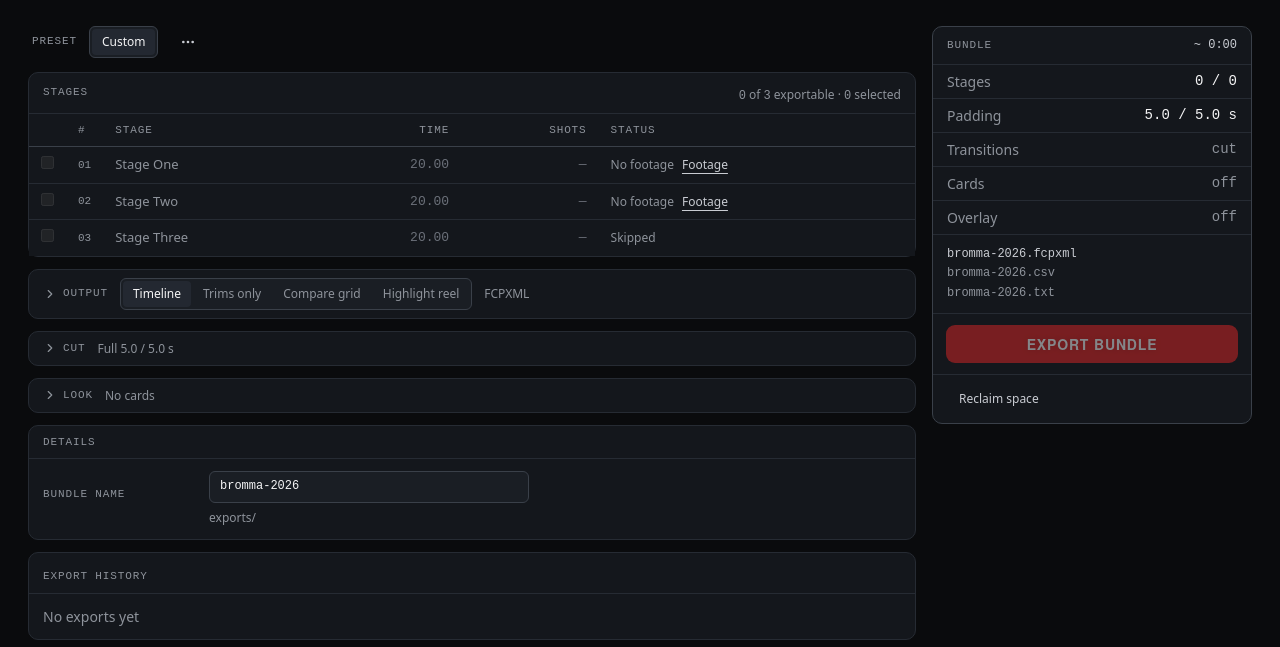
Test: Export compare grid mode › never reports a short render as a complete success
What coordinates should you click on to do the following:
click the button "Compare grid"
I would click on:
 (322, 294)
Its box is x1=273 y1=281 x2=371 y2=307.
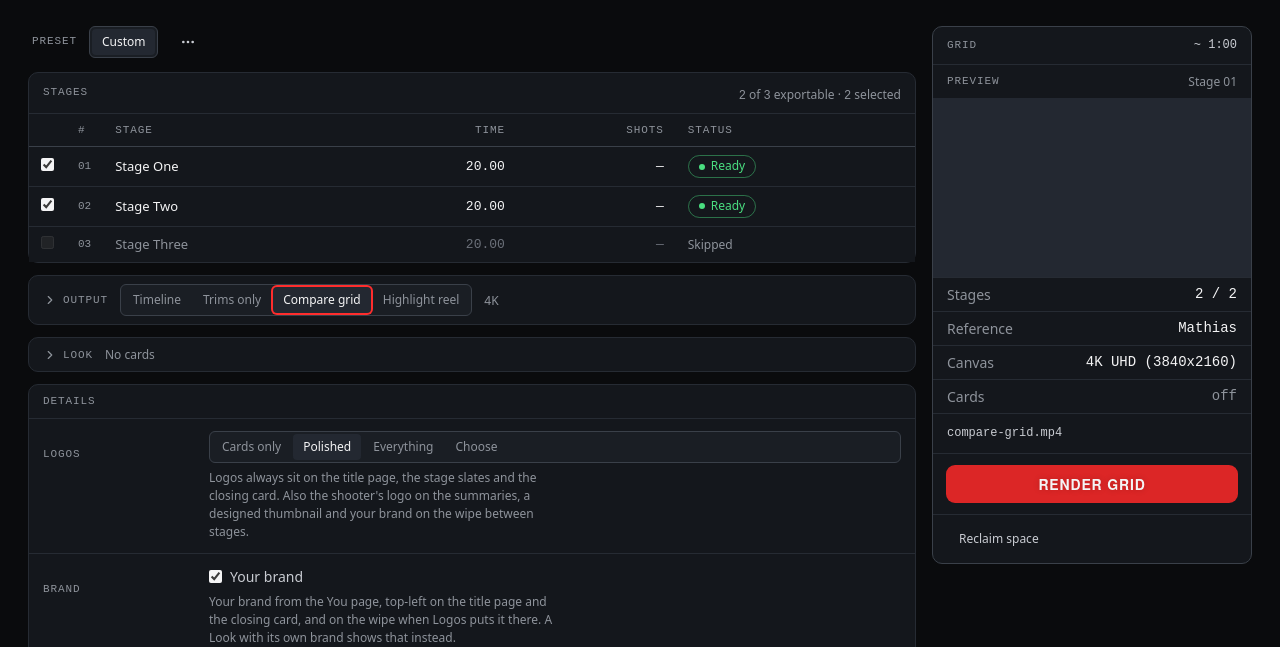
Expected: the checkbox named "Stage Two" is checked, x1=41 y1=198 x2=54 y2=211
What coordinates should you click on to do the following:
click the button "Output"
I would click on:
 (75, 300)
Its box is x1=43 y1=292 x2=108 y2=308.
(page scrolled)
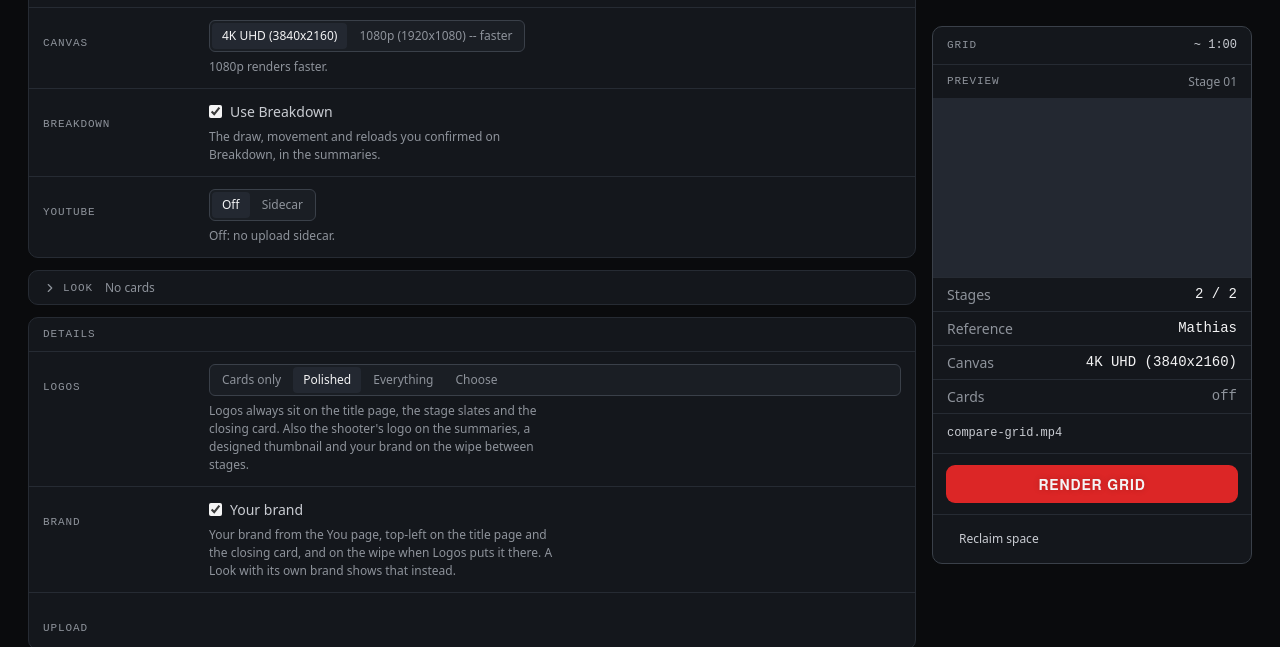
What coordinates should you click on to do the following:
click the button "Look"
I would click on:
 (68, 288)
Its box is x1=43 y1=280 x2=93 y2=296.
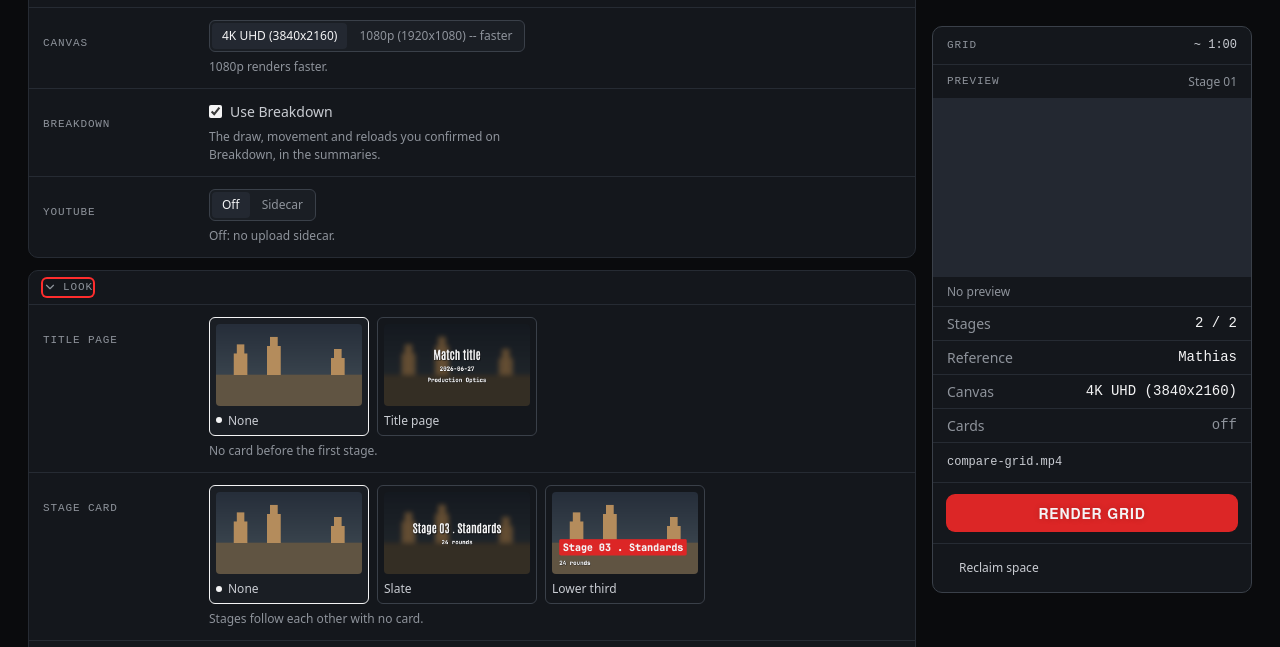
What coordinates should you click on to do the following:
click the button "Render grid"
I would click on:
 (1092, 513)
Its box is x1=947 y1=495 x2=1237 y2=531.
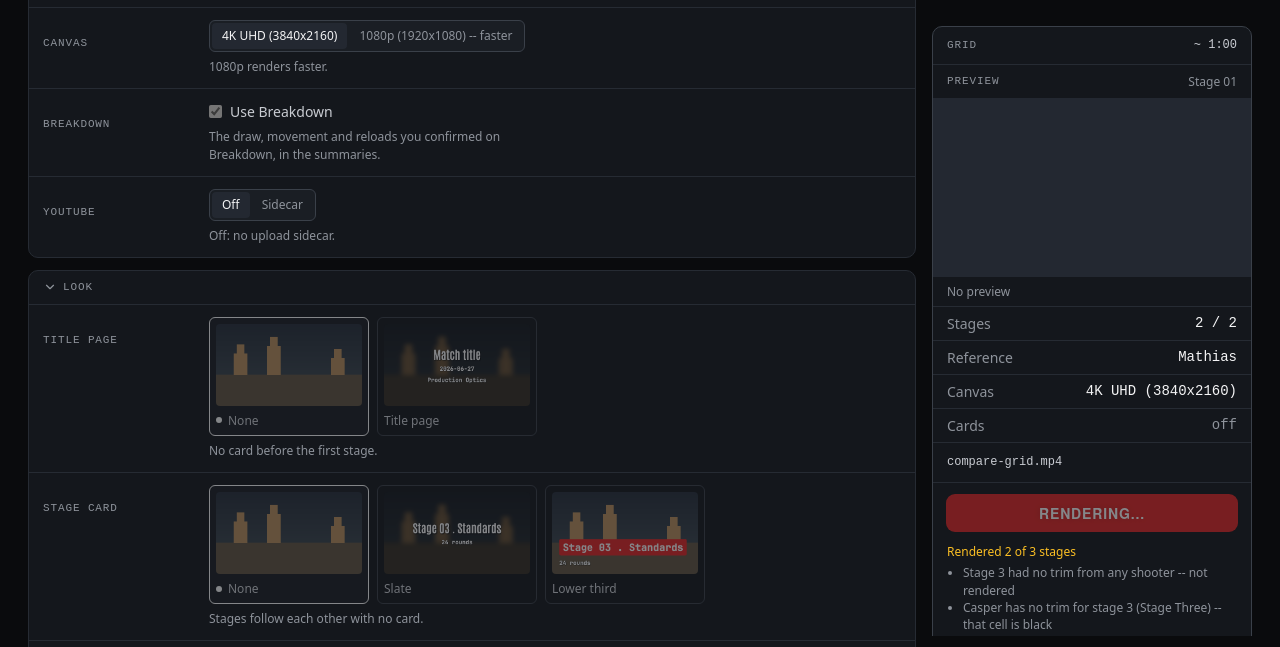
Expected: the text "Rendered 2 of 3 stages" is shown, x1=947 y1=543 x2=1076 y2=560
Expected: the list item "Stage 3 had no trim from any shooter -- not rendered" is shown, x1=963 y1=564 x2=1237 y2=598
Expected: the list item "Casper has no trim for stage 3 (Stage Three)" is shown, x1=963 y1=598 x2=1211 y2=615
